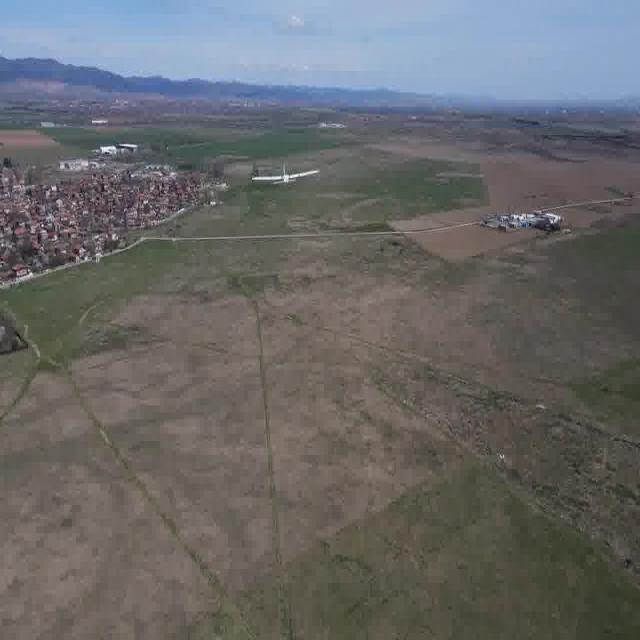iha: (283, 161, 285, 199)
